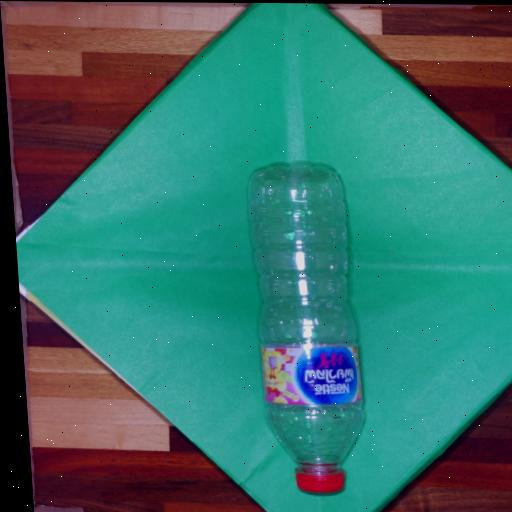bottle: (245, 159, 371, 494)
